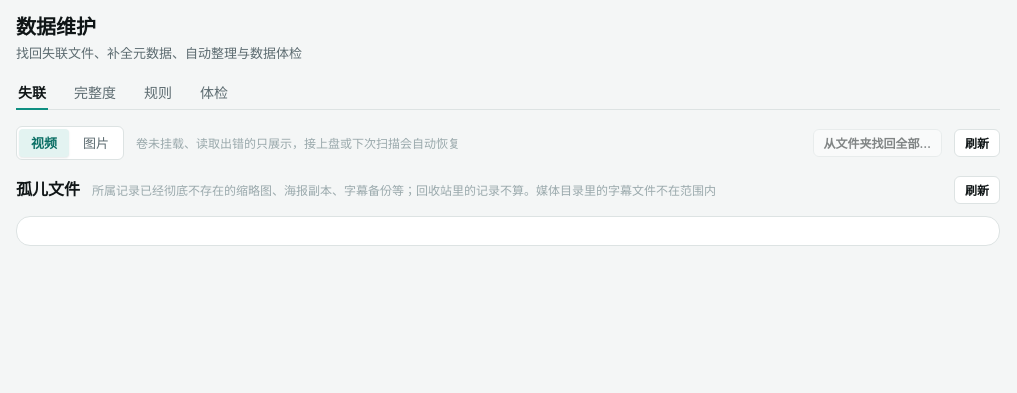
Test: 数据维护页（D-DC-01） › 点页签切换面板
The image size is (1017, 393).
Click the tab with test id "data-care-tab-health": (214, 92) 198,76 -> 230,110
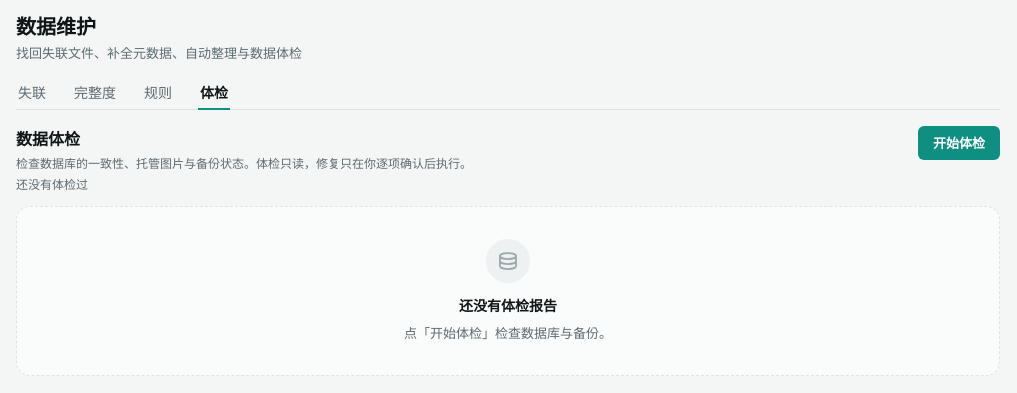
Now the panel with test id "data-care-panel-health" is shown
